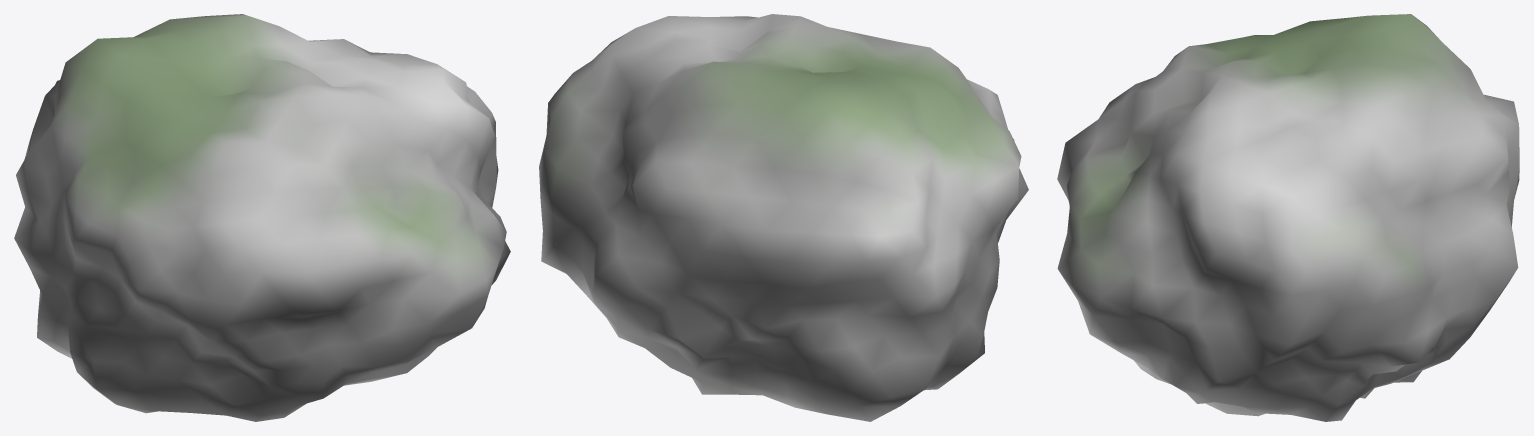
Rendered from rock_round.glb.
The picture shows the model from 3 angles, left to right: view 1: azimuth 30°, elevation 25°; view 2: azimuth 150°, elevation 25°; view 3: azimuth 270°, elevation 25°; orthographic projection. The views are drawn at different scales.
Visible parts, largest first — view 1: Rock; view 2: Rock; view 3: Rock.
Part boxes in pixels (<box>): Rock: <box>14,14,510,421</box>; Rock: <box>539,14,1028,421</box>; Rock: <box>1057,14,1519,421</box>.
Size of the model in its own units: 0.089 by 0.0602 by 0.0814.
